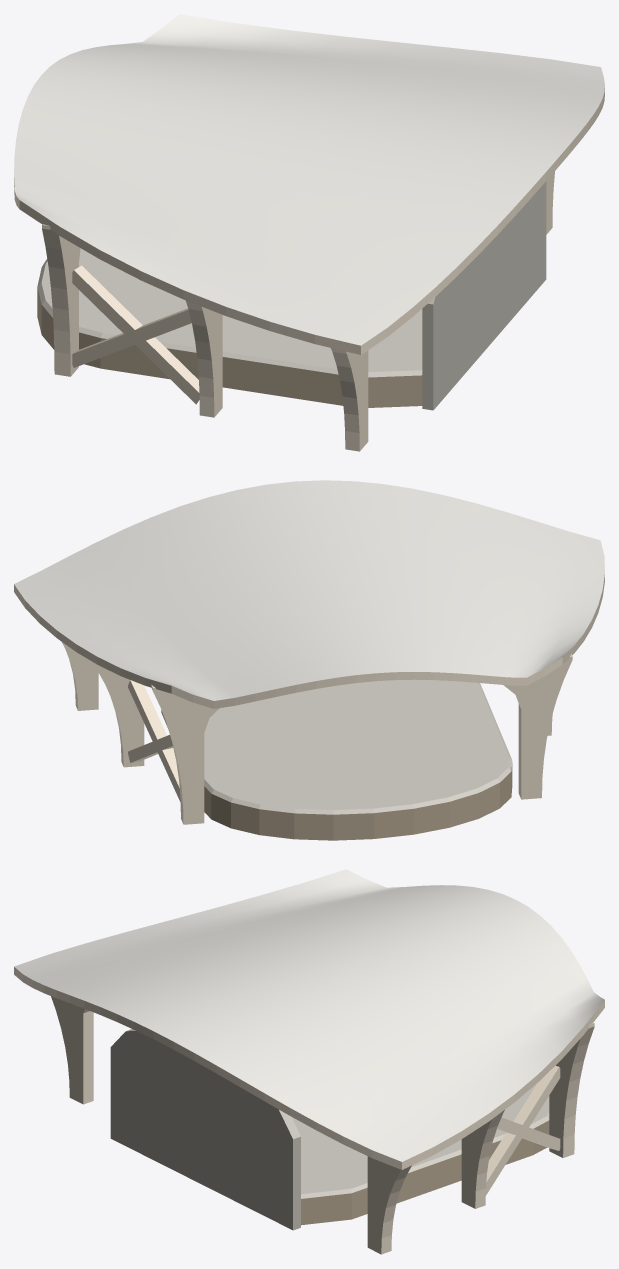
The picture shows the model from 3 angles, top to bottom: view 1: azimuth 30°, elevation 25°; view 2: azimuth 150°, elevation 25°; view 3: azimuth 270°, elevation 25°; orthographic projection. The views are drawn at different scales.
Visible parts, largest first — view 1: freedom-park-bandshell; view 2: freedom-park-bandshell; view 3: freedom-park-bandshell.
Boxes of the visible parts, x1=… form: freedom-park-bandshell: x1=14, y1=14, x2=604, y2=451; freedom-park-bandshell: x1=14, y1=480, x2=604, y2=840; freedom-park-bandshell: x1=14, y1=869, x2=604, y2=1254.
Bounding box in the file's own units: 20.61 × 6.45 × 19.97.
